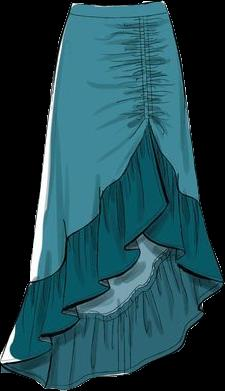Hemline: (1, 136, 223, 364), (26, 118, 201, 281)
Waistline: (142, 19, 151, 121), (67, 12, 170, 19), (71, 0, 165, 6)
